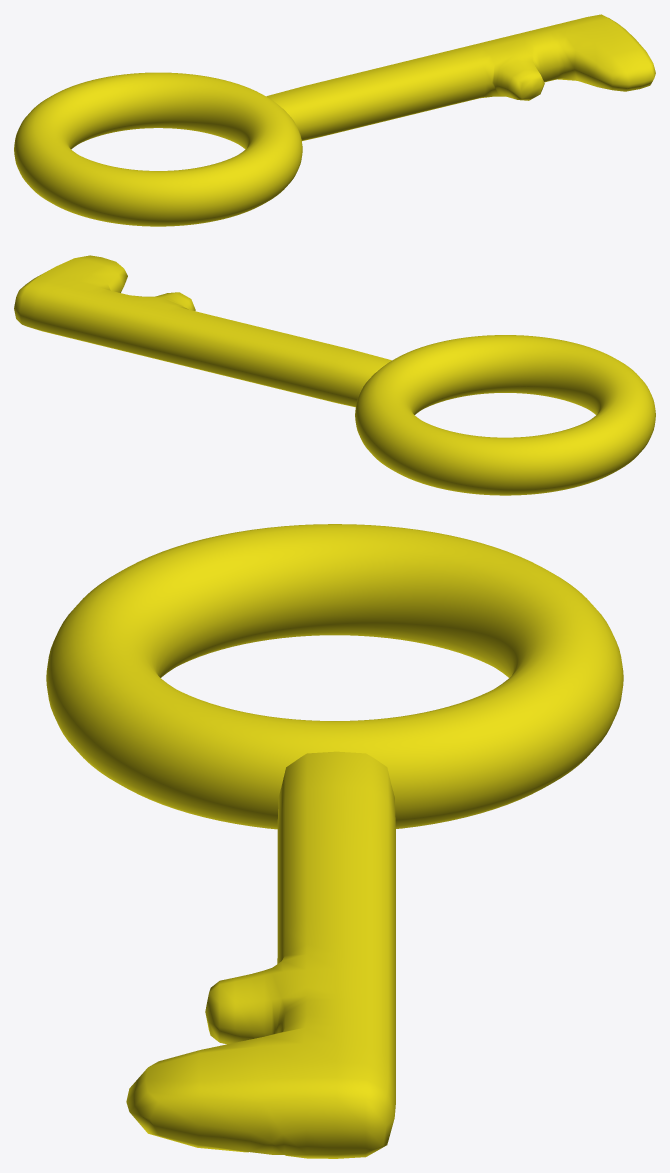
File: Key.fbx
3 renders of one model, top to bottom at view 1: azimuth 30°, elevation 25°; view 2: azimuth 150°, elevation 25°; view 3: azimuth 270°, elevation 25°, orthographic. The views are drawn at different scales.
Parts seen in each view (by area): view 1: Cube; view 2: Cube; view 3: Cube.
Boxes of the visible parts, x1=… form: Cube: x1=14, y1=14, x2=655, y2=226; Cube: x1=14, y1=255, x2=655, y2=495; Cube: x1=46, y1=524, x2=623, y2=1158.
Size of the model in its own units: 580 by 47.77 by 247.
